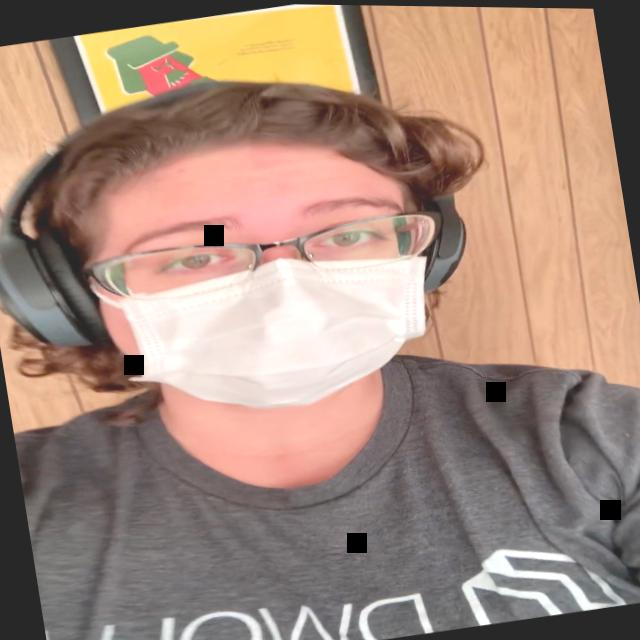Mask: (67, 116, 457, 439)
